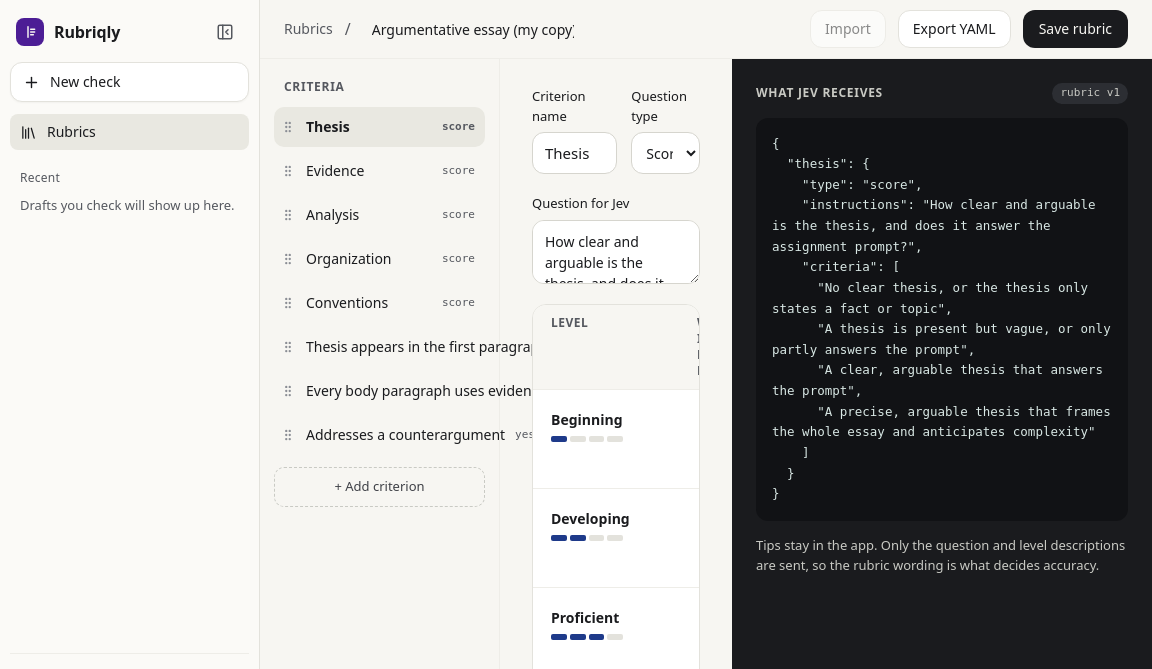
Test: Rubric builder › updates the preview live as the question changes
This screenshot has width=1152, height=669.
Replace the text in the text box labelled "Question for Jev" with "Is the thesis arguable?" at (616, 252), box [532,220,700,284]
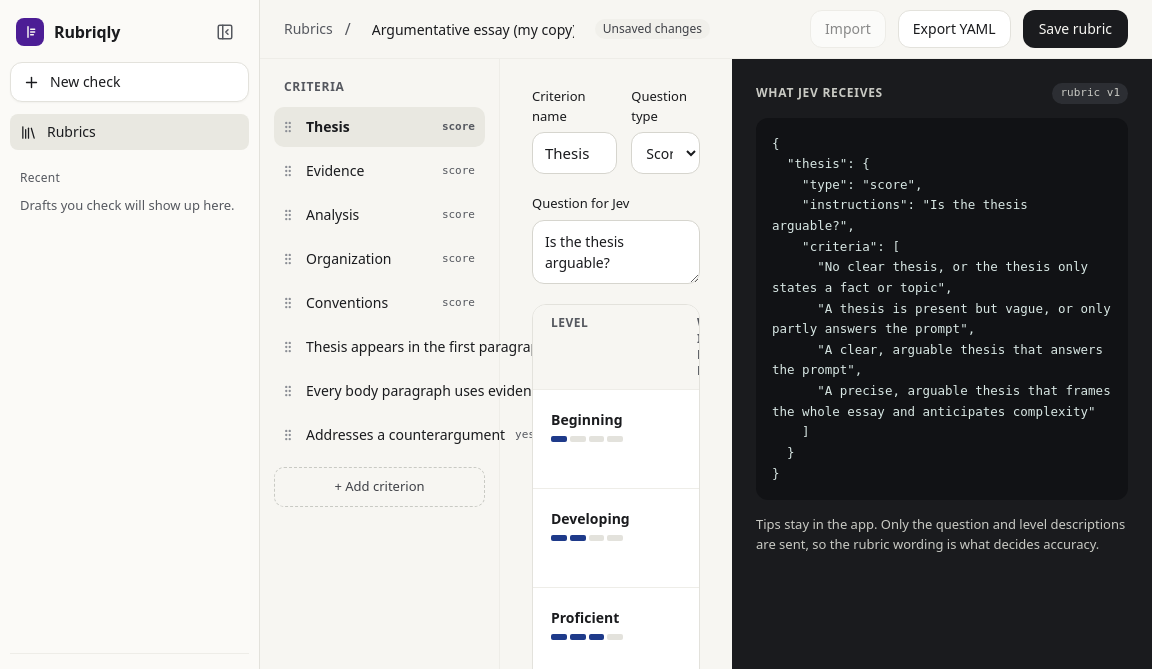
Result: the element "What Jev receives" shows "Is the thesis arguable?" at [772,136,1118,480]
Result: the text "Unsaved changes" is shown at [595,19,710,39]
